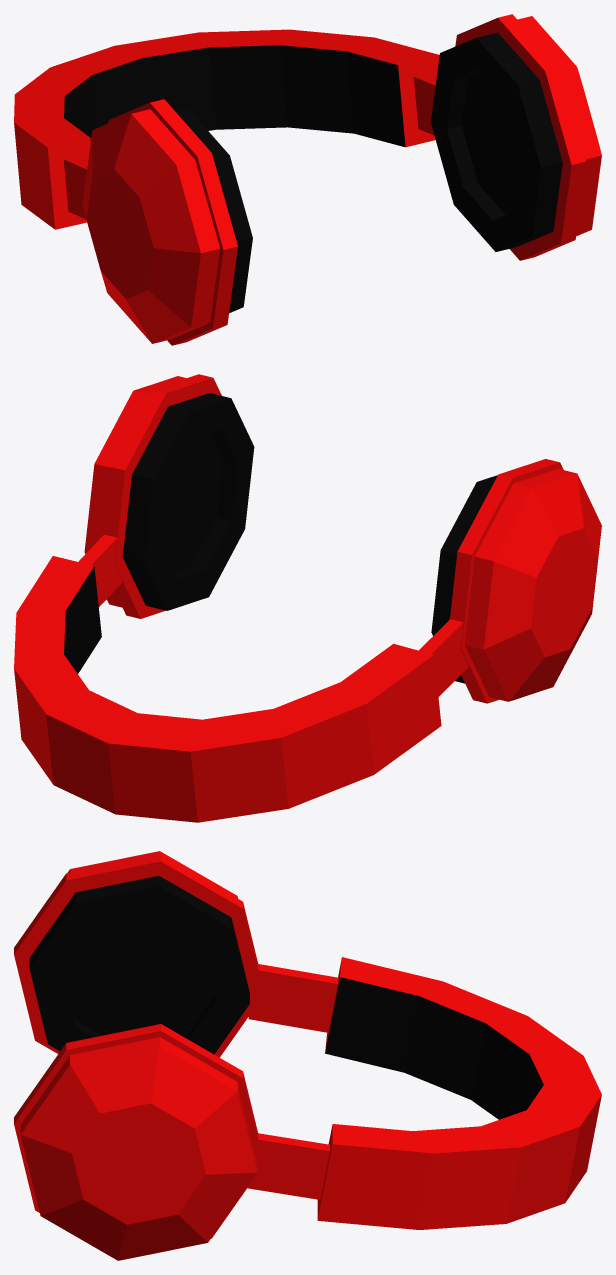
The model's file is Headphones.fbx.
The picture shows the model from 3 angles, top to bottom: view 1: azimuth 30°, elevation 25°; view 2: azimuth 150°, elevation 25°; view 3: azimuth 270°, elevation 25°; orthographic projection.
Parts seen in each view (by area): view 1: Headphones; view 2: Headphones; view 3: Headphones.
Boxes of the visible parts, x1,y1,x2,y2 form: Headphones: (14,14,601,345); Headphones: (14,374,601,822); Headphones: (14,851,601,1260).
Size of the model in its own units: 30.25 by 14.78 by 34.74.
